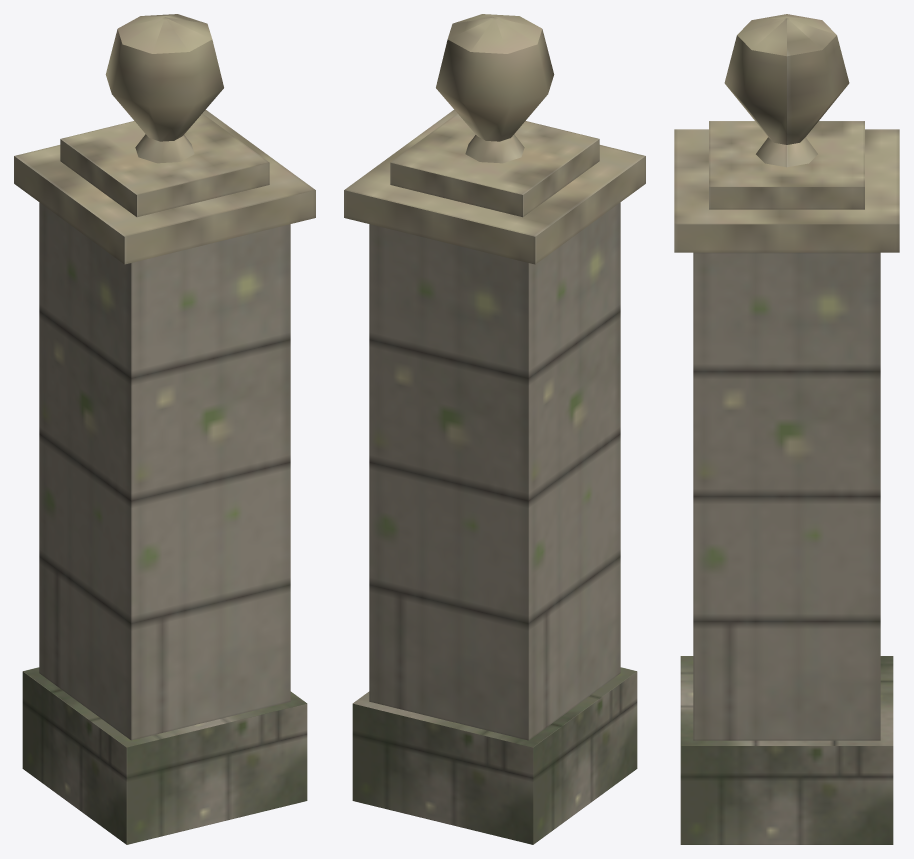
File: pier_stone.obj
The picture shows the model from 3 angles, left to right: view 1: azimuth 30°, elevation 25°; view 2: azimuth 150°, elevation 25°; view 3: azimuth 270°, elevation 25°; orthographic projection.
Parts seen in each view (by area): view 1: pier_stone; view 2: pier_stone; view 3: pier_stone.
Part boxes in pixels (bbox=[...]): pier_stone: bbox=[14, 14, 315, 844]; pier_stone: bbox=[344, 14, 645, 844]; pier_stone: bbox=[674, 14, 899, 844].
Bounding box in the file's own units: 0.72 × 2.76 × 0.72.
Materials: 1 (1 with a texture image).
